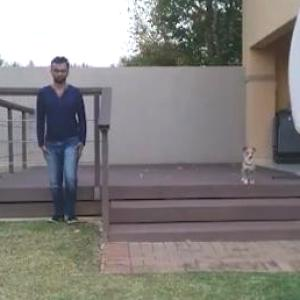follow: (36, 48, 88, 236)
